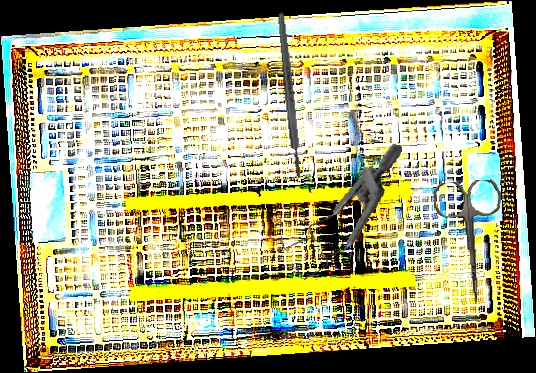Iris Scissors: (432, 178, 509, 307)
Scalpel Handle: (276, 11, 304, 180)
Speculum: (274, 127, 403, 293)
